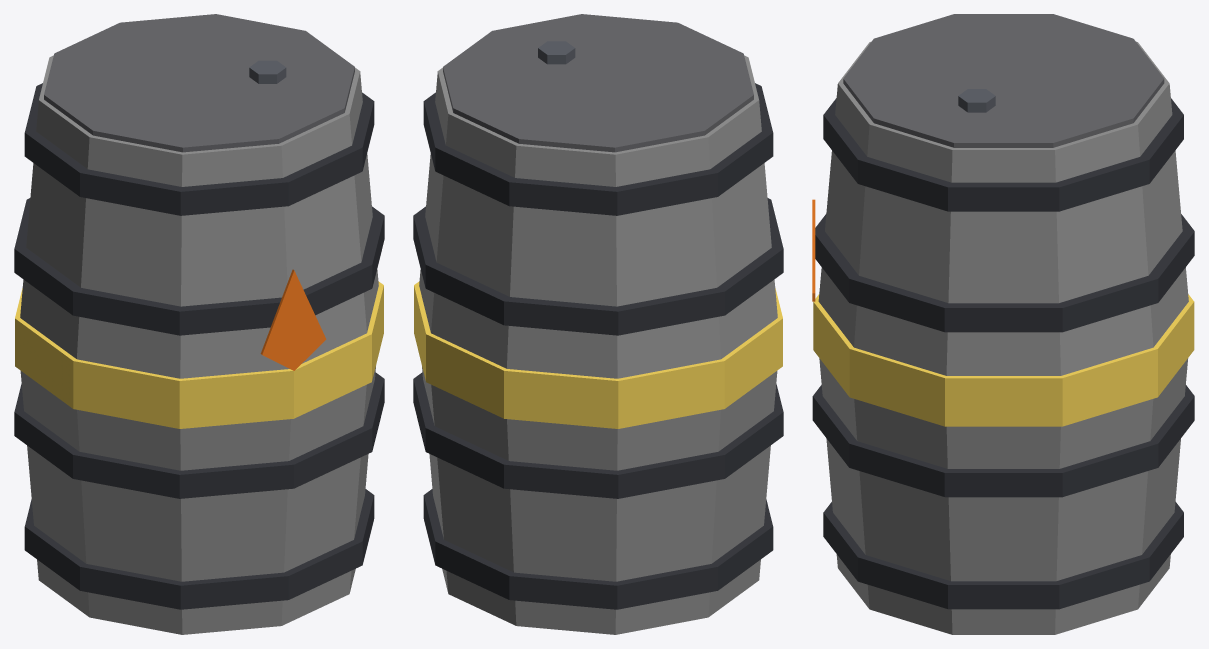
Rendered from barrel.fbx.
3 views of the same model, side by side, from view 1: azimuth 30°, elevation 25°; view 2: azimuth 150°, elevation 25°; view 3: azimuth 270°, elevation 25° (orthographic).
Visible parts, largest first — view 1: Barrel; view 2: Barrel; view 3: Barrel.
Boxes of the visible parts, bbox=[...] form: Barrel: bbox=[14, 14, 384, 634]; Barrel: bbox=[413, 14, 783, 634]; Barrel: bbox=[812, 14, 1194, 634].
Size of the model in its own units: 0.6791 by 1.03 by 0.715.
Materials: 1 (1 with a texture image).
